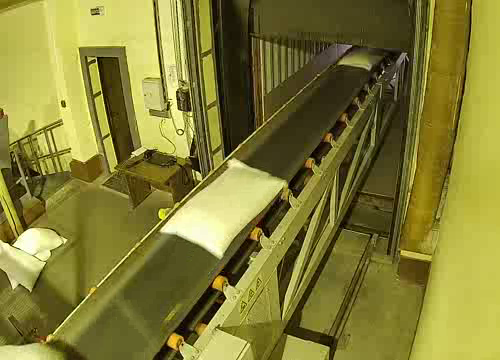bag: (157, 155, 294, 263), (0, 334, 77, 360), (338, 44, 389, 73)
